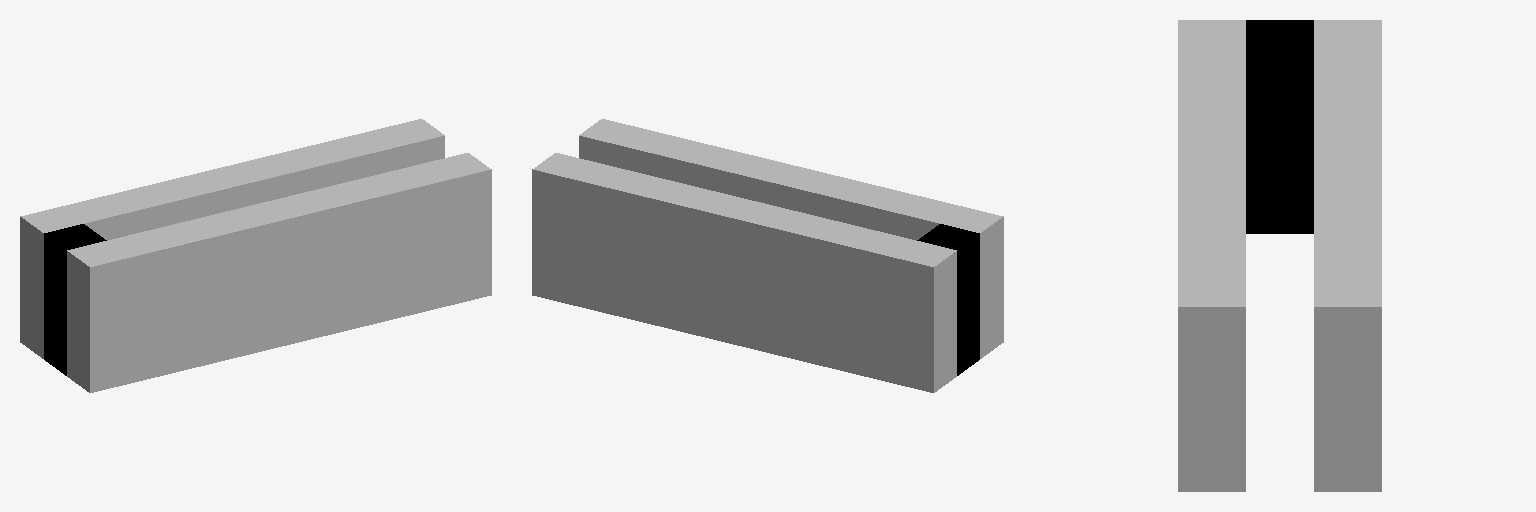
URDF robot description (abb_irb6640_with_camera_gripper):
<?xml version="1.0" encoding="utf-8"?>
<!-- =================================================================================== -->
<!-- |    This document was autogenerated by xacro from abb_with_measurement_tool.xacro | -->
<!-- |    EDITING THIS FILE BY HAND IS NOT RECOMMENDED                                 | -->
<!-- =================================================================================== -->
<robot name="abb_irb6640_with_camera_gripper">
  <material name="aluminum">
    <color rgba="0.5 0.5 0.5 1"/>
  </material>
  <material name="plastic">
    <color rgba="0.1 0.1 0.1 1"/>
  </material>
  <!-- link list -->
  <link name="base_link">
    <collision name="collision">
      <geometry>
        <mesh filename="package://abb_irb6640_support/meshes/irb6640_185_280/collision/base_link.stl"/>
      </geometry>
    </collision>
    <visual name="visual">
      <geometry>
        <mesh filename="package://abb_irb6640_support/meshes/irb6640_185_280/visual/base_link.dae"/>
      </geometry>
      <material name="yellow">
        <color rgba="1 1 0 1"/>
      </material>
    </visual>
  </link>
  <link name="link_1">
    <collision name="collision">
      <geometry>
        <mesh filename="package://abb_irb6640_support/meshes/irb6640_185_280/collision/link_1.stl"/>
      </geometry>
    </collision>
    <visual name="visual">
      <geometry>
        <mesh filename="package://abb_irb6640_support/meshes/irb6640_185_280/visual/link_1.dae"/>
      </geometry>
      <material name="yellow"/>
    </visual>
  </link>
  <link name="link_2">
    <collision name="collision">
      <geometry>
        <mesh filename="package://abb_irb6640_support/meshes/irb6640_185_280/collision/link_2.stl"/>
      </geometry>
    </collision>
    <visual name="visual">
      <geometry>
        <mesh filename="package://abb_irb6640_support/meshes/irb6640_185_280/visual/link_2.dae"/>
      </geometry>
      <material name="yellow"/>
    </visual>
  </link>
  <link name="link_3">
    <collision name="collision">
      <geometry>
        <mesh filename="package://abb_irb6640_support/meshes/irb6640_185_280/collision/link_3.stl"/>
      </geometry>
    </collision>
    <visual name="visual">
      <geometry>
        <mesh filename="package://abb_irb6640_support/meshes/irb6640_185_280/visual/link_3.dae"/>
      </geometry>
      <material name="yellow"/>
    </visual>
  </link>
  <link name="link_4">
    <collision name="collision">
      <geometry>
        <mesh filename="package://abb_irb6640_support/meshes/irb6640_185_280/collision/link_4.stl"/>
      </geometry>
    </collision>
    <visual name="visual">
      <geometry>
        <mesh filename="package://abb_irb6640_support/meshes/irb6640_185_280/visual/link_4.dae"/>
      </geometry>
      <material name="yellow"/>
    </visual>
  </link>
  <link name="link_5">
    <collision name="collision">
      <geometry>
        <mesh filename="package://abb_irb6640_support/meshes/irb6640_185_280/collision/link_5.stl"/>
      </geometry>
    </collision>
    <visual name="visual">
      <geometry>
        <mesh filename="package://abb_irb6640_support/meshes/irb6640_185_280/visual/link_5.dae"/>
      </geometry>
      <material name="yellow"/>
    </visual>
  </link>
  <link name="link_6">
    <collision name="collision">
      <geometry>
        <mesh filename="package://abb_irb6640_support/meshes/irb6640_185_280/collision/link_6.stl"/>
      </geometry>
    </collision>
    <visual name="visual">
      <geometry>
        <mesh filename="package://abb_irb6640_support/meshes/irb6640_185_280/visual/link_6.dae"/>
      </geometry>
      <material name="yellow"/>
    </visual>
  </link>
  <link name="tool0"/>
  <!--Cylinder and piston -->
  <link name="link_cylinder">
    <collision name="collision">
      <geometry>
        <mesh filename="package://abb_irb6640_support/meshes/irb6640_185_280/collision/cylinder_link.stl"/>
      </geometry>
    </collision>
    <visual name="visual">
      <geometry>
        <mesh filename="package://abb_irb6640_support/meshes/irb6640_185_280/visual/cylinder_link.dae"/>
      </geometry>
      <material name="yellow"/>
    </visual>
  </link>
  <link name="link_piston">
    <collision name="collision">
      <geometry>
        <mesh filename="package://abb_irb6640_support/meshes/irb6640_185_280/collision/piston_link.stl"/>
      </geometry>
    </collision>
    <visual name="visual">
      <geometry>
        <mesh filename="package://abb_irb6640_support/meshes/irb6640_185_280/visual/piston_link.dae"/>
      </geometry>
      <material name="yellow"/>
    </visual>
  </link>
  <!-- end of link list -->
  <!-- joint list -->
  <joint name="joint_1" type="revolute">
    <origin rpy="0 0 0" xyz="0 0 0.780"/>
    <axis xyz="0 0 1"/>
    <parent link="base_link"/>
    <child link="link_1"/>
    <limit effort="0" lower="-2.967" upper="2.967" velocity="1.7453"/>
  </joint>
  <joint name="joint_2" type="revolute">
    <origin rpy="0 0 0" xyz="0.320 0 0"/>
    <axis xyz="0 1 0"/>
    <parent link="link_1"/>
    <child link="link_2"/>
    <limit effort="0" lower="-1.134" upper="1.4855" velocity="1.5707"/>
  </joint>
  <joint name="joint_3" type="revolute">
    <origin rpy="0 0 0" xyz="0 0 1.075"/>
    <axis xyz="0 1 0"/>
    <parent link="link_2"/>
    <child link="link_3"/>
    <limit effort="0" lower="-3.142" upper="1.222" velocity="1.5707"/>
  </joint>
  <joint name="joint_4" type="revolute">
    <origin rpy="0 0 0" xyz="0 0 0.2"/>
    <axis xyz="1 0 0"/>
    <parent link="link_3"/>
    <child link="link_4"/>
    <limit effort="0" lower="-5.236" upper="5.236" velocity="2.9671"/>
  </joint>
  <joint name="joint_5" type="revolute">
    <origin rpy="0 0 0" xyz="1.392 0 0 "/>
    <axis xyz="0 1 0"/>
    <parent link="link_4"/>
    <child link="link_5"/>
    <limit effort="0" lower="-2.094" upper="2.094" velocity="2.4435"/>
  </joint>
  <joint name="joint_6" type="revolute">
    <origin rpy="0 0 0" xyz="0.2 0 0 "/>
    <axis xyz="1 0 0"/>
    <parent link="link_5"/>
    <child link="link_6"/>
    <limit effort="0" lower="-6.283" upper="6.283" velocity="3.3161"/>
  </joint>
  <joint name="joint_6-tool0" type="fixed">
    <parent link="link_6"/>
    <child link="tool0"/>
    <origin rpy="0 1.57079632679 0" xyz="0 0 0"/>
  </joint>
  <joint name="joint_cylinder" type="continuous">
    <origin rpy="0 0 0" xyz="-0.3647 0 -0.1455"/>
    <axis xyz="0 1 0"/>
    <parent link="link_1"/>
    <child link="link_cylinder"/>
    <mimic joint="joint_2" multiplier="-0.25"/>
  </joint>
  <joint name="joint_piston" type="continuous">
    <origin rpy="0 0 0" xyz="-0.22 0 -0.0672"/>
    <axis xyz="0 1 0"/>
    <parent link="link_2"/>
    <child link="link_piston"/>
    <mimic joint="joint_2" multiplier="-1.25"/>
  </joint>
  <!-- end of joint list -->
  <!-- ROS base_link to ABB World Coordinates transform -->
  <link name="base"/>
  <joint name="base_link-base" type="fixed">
    <origin rpy="0 0 0" xyz="0 0 0"/>
    <parent link="base_link"/>
    <child link="base"/>
  </joint>
  <!-- Create a fixed joint with a parameterized name. -->
  <joint name="measurement_tool_joint" type="fixed">
    <!-- The parent link must be read from the robot model it is attached to. -->
    <parent link="tool0"/>
    <child link="measurement_tool"/>
    <!-- The tool is directly attached to the flange. -->
    <origin rpy="0 0 0" xyz="0 0 0"/>
  </joint>
  <link name="measurement_tool">
    <visual>
      <geometry>
        <!-- The path to the visual meshes in the package. -->
        <mesh filename="package://abb_with_gripper/meshes/visual/pg70.dae"/>
      </geometry>
    </visual>
    <collision>
      <geometry>
        <!-- The path to the visual meshes in the package. -->
        <mesh filename="package://abb_with_gripper/meshes/visual/pg70.dae"/>
      </geometry>
    </collision>
  </link>
  <!-- LEFT FINGER BASE -->
  <joint name="finger_left_joint" type="prismatic">
    <parent link="measurement_tool"/>
    <child link="finger_left_link"/>
    <limit effort="100" lower="-0.001" upper="0.04" velocity="2.0"/>
    <origin rpy="0 0 0" xyz="0 0 0.0789"/>
    <axis xyz="0 1 0"/>
  </joint>
  <link name="finger_left_link">
    <visual>
      <geometry>
        <box size="0.03 0.01 0.01"/>
      </geometry>
      <material name="black">
        <color rgba="0 0 0 1"/>
      </material>
    </visual>
    <collision>
      <geometry>
        <box size="0.03 0.01 0.01"/>
      </geometry>
      <material name="black"/>
    </collision>
  </link>
  <!-- LEFT FINGERTIP -->
  <joint name="fingertip_left_joint" type="fixed">
    <parent link="finger_left_link"/>
    <child link="fingertip_left_link"/>
    <origin rpy="0 0 0" xyz="0 0.01 0.045"/>
  </joint>
  <link name="fingertip_left_link">
    <visual>
      <geometry>
        <box size="0.03 0.01 0.1"/>
      </geometry>
      <material name="silver">
        <color rgba="0.8 0.8 0.8 1"/>
      </material>
    </visual>
    <collision>
      <geometry>
        <box size="0.03 0.01 0.1"/>
      </geometry>
      <material name="black"/>
    </collision>
  </link>
  <!-- RIGHT FINGER BASE -->
  <joint name="finger_right_joint" type="prismatic">
    <!-- <mimic joint="finger_left_joint" multiplier="1" offset="0"/> -->
    <parent link="measurement_tool"/>
    <child link="finger_right_link"/>
    <limit effort="100" lower="-0.001" upper="0.04" velocity="2.0"/>
    <origin rpy="-0 0 0" xyz="0 0 0.0789"/>
    <axis xyz="0 -1 0"/>
  </joint>
  <link name="finger_right_link">
    <visual>
      <geometry>
        <box size="0.03 0.01 0.01"/>
      </geometry>
      <material name="black"/>
    </visual>
    <collision>
      <geometry>
        <box size="0.03 0.01 0.01"/>
      </geometry>
      <material name="black"/>
    </collision>
  </link>
  <!-- RIGHT FINGERTIP -->
  <joint name="fingertip_right_joint" type="fixed">
    <parent link="finger_right_link"/>
    <child link="fingertip_right_link"/>
    <origin rpy="0 0 0" xyz="0 -0.01 0.045"/>
  </joint>
  <link name="fingertip_right_link">
    <visual>
      <geometry>
        <box size="0.03 0.01 0.1"/>
      </geometry>
      <material name="silver"/>
    </visual>
    <collision>
      <geometry>
        <box size="0.03 0.01 0.1"/>
      </geometry>
      <material name="black"/>
    </collision>
  </link>
  <!-- TCP frame -->
  <joint name="tcp_joint" type="fixed">
    <origin rpy="0 0 0" xyz="0 0 0.116"/>
    <parent link="measurement_tool"/>
    <child link="tcp"/>
  </joint>
  <link name="tcp"/>
  <!-- camera body, with origin at bottom screw mount -->
  <joint name="camera_joint" type="fixed">
    <origin rpy="0 -1.57079632679 0" xyz="-0.1 0 0"/>
    <parent link="measurement_tool"/>
    <child link="camera_bottom_screw_frame"/>
  </joint>
  <link name="camera_bottom_screw_frame"/>
  <joint name="camera_link_joint" type="fixed">
    <origin rpy="0 0 0" xyz="0.0106 0.0175 0.0125"/>
    <parent link="camera_bottom_screw_frame"/>
    <child link="camera_link"/>
  </joint>
  <link name="camera_link">
    <visual>
      <!-- the mesh origin is at front plate in between the two infrared camera axes -->
      <origin rpy="1.57079632679 0 1.57079632679" xyz="0.0043 -0.0175 0"/>
      <geometry>
        <!-- ADDED SCALE MANUALLY-->
        <mesh filename="package://realsense2_description/meshes/d435.dae" scale="1.5 1.5 1.5"/>
      </geometry>
    </visual>
    <collision>
      <origin rpy="0 0 0" xyz="0 -0.0175 0"/>
      <geometry>
        <box size="0.02505 0.09 0.025"/>
      </geometry>
    </collision>
    <inertial>
      <!-- The following are not reliable values, and should not be used for modeling -->
      <mass value="0.072"/>
      <origin xyz="0 0 0"/>
      <inertia ixx="0.003881243" ixy="0.0" ixz="0.0" iyy="0.000498940" iyz="0.0" izz="0.003879257"/>
    </inertial>
  </link>
  <!-- camera depth joints and links -->
  <joint name="camera_depth_joint" type="fixed">
    <origin rpy="0 0 0" xyz="0 0 0"/>
    <parent link="camera_link"/>
    <child link="camera_depth_frame"/>
  </joint>
  <link name="camera_depth_frame"/>
  <joint name="camera_depth_optical_joint" type="fixed">
    <origin rpy="-1.57079632679 0 -1.57079632679" xyz="0 0 0"/>
    <parent link="camera_depth_frame"/>
    <child link="camera_depth_optical_frame"/>
  </joint>
  <link name="camera_depth_optical_frame"/>
  <!-- camera left IR joints and links -->
  <joint name="camera_infra1_joint" type="fixed">
    <origin rpy="0 0 0" xyz="0 0.0 0"/>
    <parent link="camera_link"/>
    <child link="camera_infra1_frame"/>
  </joint>
  <link name="camera_infra1_frame"/>
  <joint name="camera_infra1_optical_joint" type="fixed">
    <origin rpy="-1.57079632679 0 -1.57079632679" xyz="0 0 0"/>
    <parent link="camera_infra1_frame"/>
    <child link="camera_infra1_optical_frame"/>
  </joint>
  <link name="camera_infra1_optical_frame"/>
  <!-- camera right IR joints and links -->
  <joint name="camera_infra2_joint" type="fixed">
    <origin rpy="0 0 0" xyz="0 -0.05 0"/>
    <parent link="camera_link"/>
    <child link="camera_infra2_frame"/>
  </joint>
  <link name="camera_infra2_frame"/>
  <joint name="camera_infra2_optical_joint" type="fixed">
    <origin rpy="-1.57079632679 0 -1.57079632679" xyz="0 0 0"/>
    <parent link="camera_infra2_frame"/>
    <child link="camera_infra2_optical_frame"/>
  </joint>
  <link name="camera_infra2_optical_frame"/>
  <!-- camera color joints and links -->
  <joint name="camera_color_joint" type="fixed">
    <origin rpy="0 0 0" xyz="0 0.015 0"/>
    <parent link="camera_link"/>
    <child link="camera_color_frame"/>
  </joint>
  <link name="camera_color_frame"/>
  <joint name="camera_color_optical_joint" type="fixed">
    <origin rpy="-1.57079632679 0 -1.57079632679" xyz="0 0 0"/>
    <parent link="camera_color_frame"/>
    <child link="camera_color_optical_frame"/>
  </joint>
  <link name="camera_color_optical_frame"/>
  <!-- define the robot|s position and orientation in the world coordinate system -->
  <link name="world"/>
  <joint name="world_joint" type="fixed">
    <parent link="world"/>
    <child link="base_link"/>
    <!-- TODO: check base_link name of robot -->
    <origin rpy="0.0 0.0 0.0" xyz="0.0 0.0 0.0"/>
  </joint>
</robot>

--- Facts derived from the render (not from the file) ---
The picture shows the robot from 3 angles, left to right: view 1: azimuth 30°, elevation 25°; view 2: azimuth 150°, elevation 25°; view 3: azimuth 270°, elevation 25°; orthographic projection.
Model abb_irb6640_with_camera_gripper with 28 links and 27 joints (6 revolute, 2 continuous, 2 prismatic, 17 fixed), rooted at world, posed all joints at 0.
Links seen in each view (by area): view 1: fingertip_right_link, fingertip_left_link, finger_left_link; view 2: fingertip_left_link, fingertip_right_link, finger_left_link; view 3: fingertip_left_link, fingertip_right_link, finger_left_link.
Boxes of the visible links, box(x1,y1,x2,y2) form: fingertip_right_link: box(67, 153, 491, 392); fingertip_left_link: box(20, 119, 444, 358); finger_left_link: box(44, 224, 106, 375); fingertip_left_link: box(532, 153, 956, 392); fingertip_right_link: box(579, 119, 1003, 358); finger_left_link: box(917, 224, 979, 375); fingertip_left_link: box(1314, 20, 1381, 491); fingertip_right_link: box(1178, 20, 1245, 491); finger_left_link: box(1246, 20, 1313, 233).
Bounding box of the posed robot: 0.1 × 0.03 × 0.03 m (x, y, z).
0 mesh visuals loaded from 11 distinct referenced files (none loaded); not drawn: 11 (reference not matched to a file when rendering).